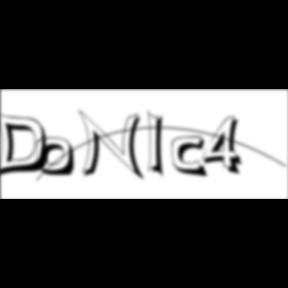4: (202, 115, 248, 179)
D: (1, 110, 55, 180)
N: (79, 109, 149, 183)
c: (172, 136, 212, 180)
l: (148, 108, 172, 182)
o: (36, 137, 78, 179)
